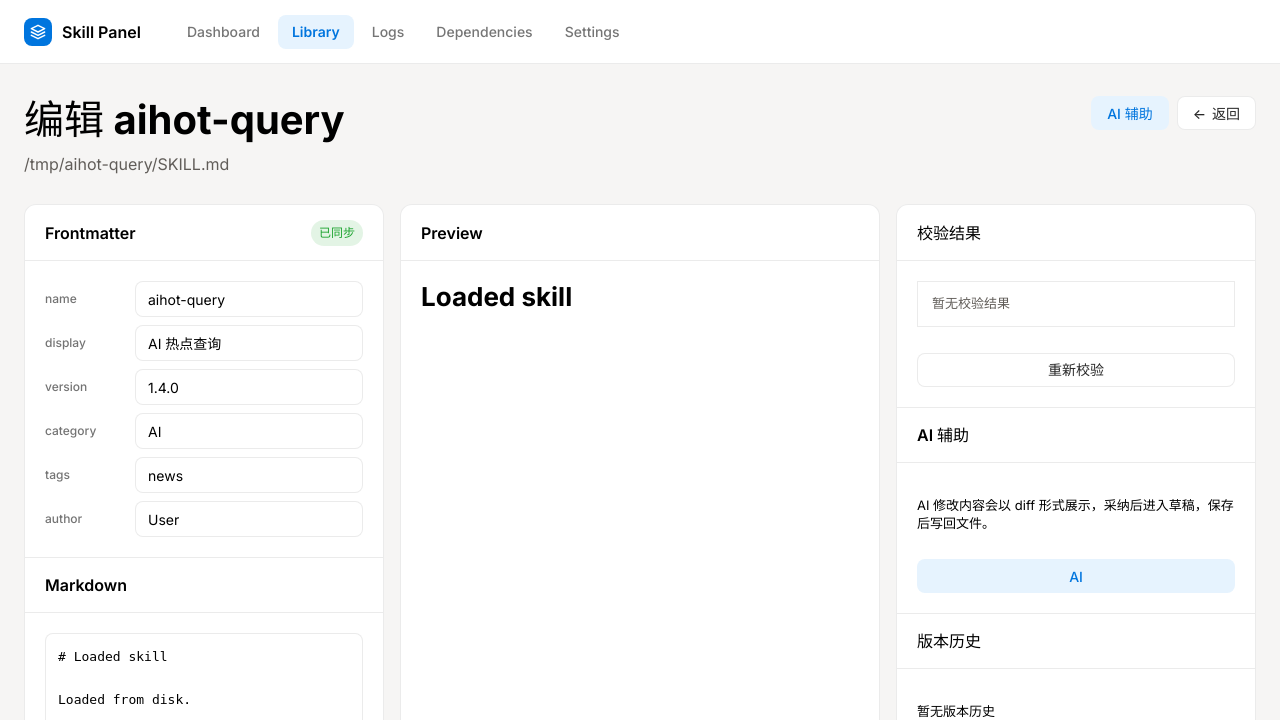
Test: App current editor workflow › opens the page-level AI Assistant with a single return entry
Click the button "AI 辅助" at point(1130, 113), box 1091,96 -> 1169,130
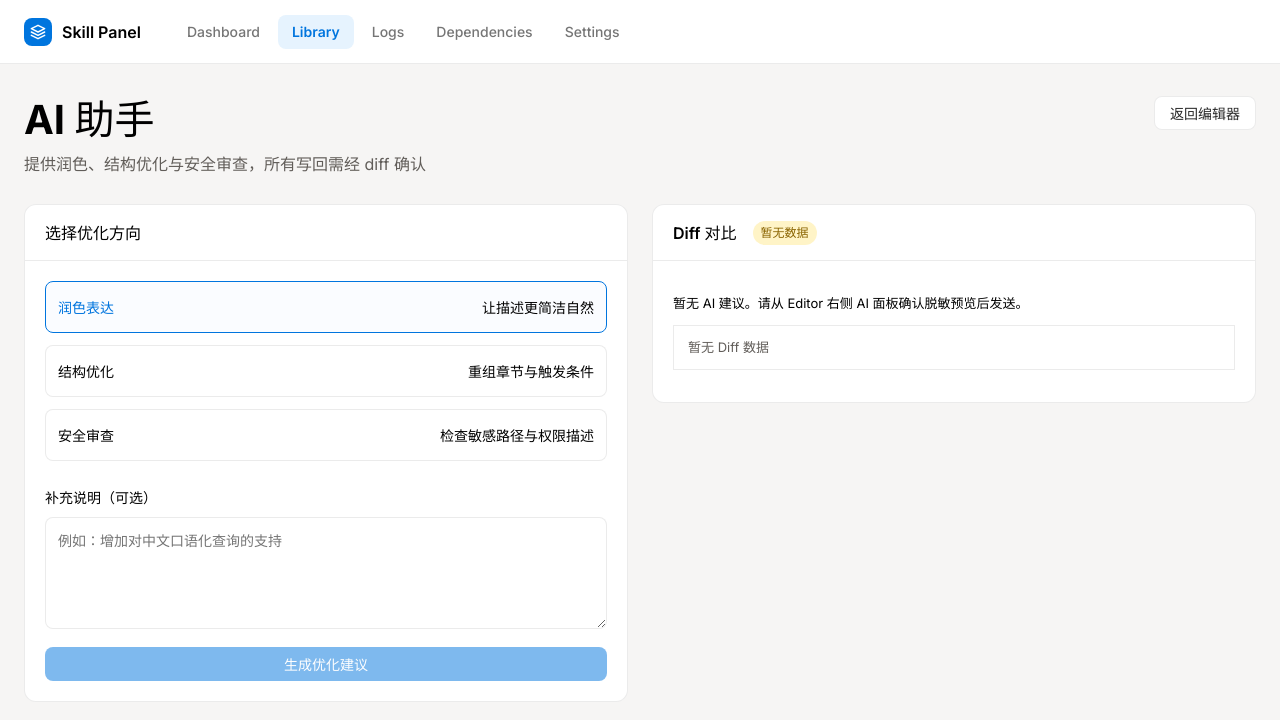
expect the heading "AI 助手" is shown: met, box 24,95 -> 155,144
expect the button "返回编辑器" is shown: met, box 1154,96 -> 1256,130
